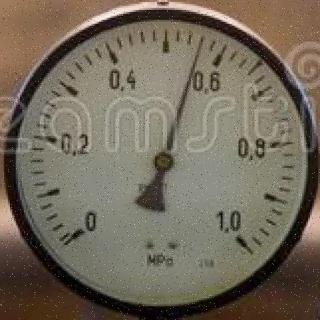gauge: (0, 0, 320, 320), (210, 209, 262, 267), (55, 205, 105, 258), (151, 150, 175, 172), (193, 33, 207, 51)
